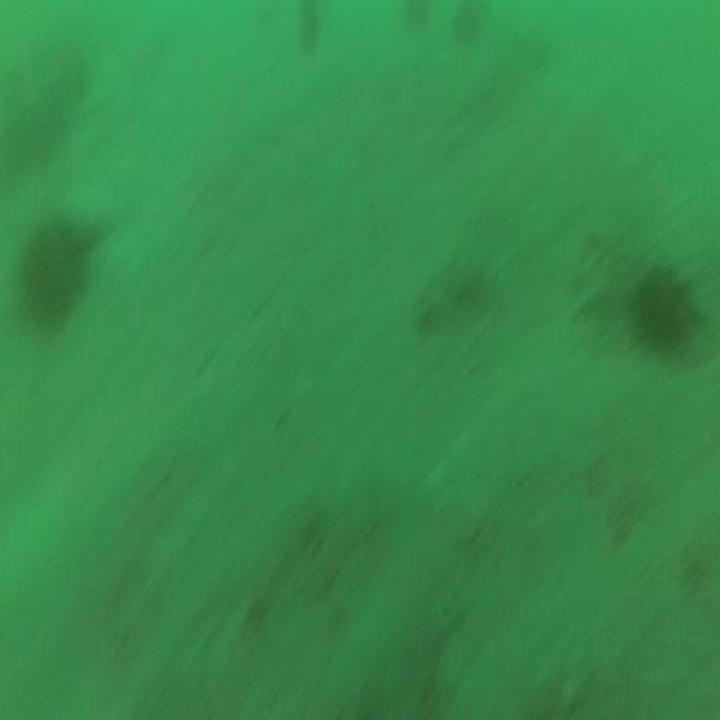echinus: (22, 209, 84, 340), (633, 253, 700, 359)
